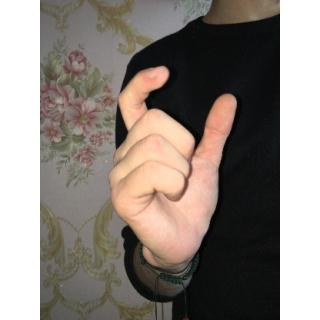NOON: (102, 58, 242, 276)
